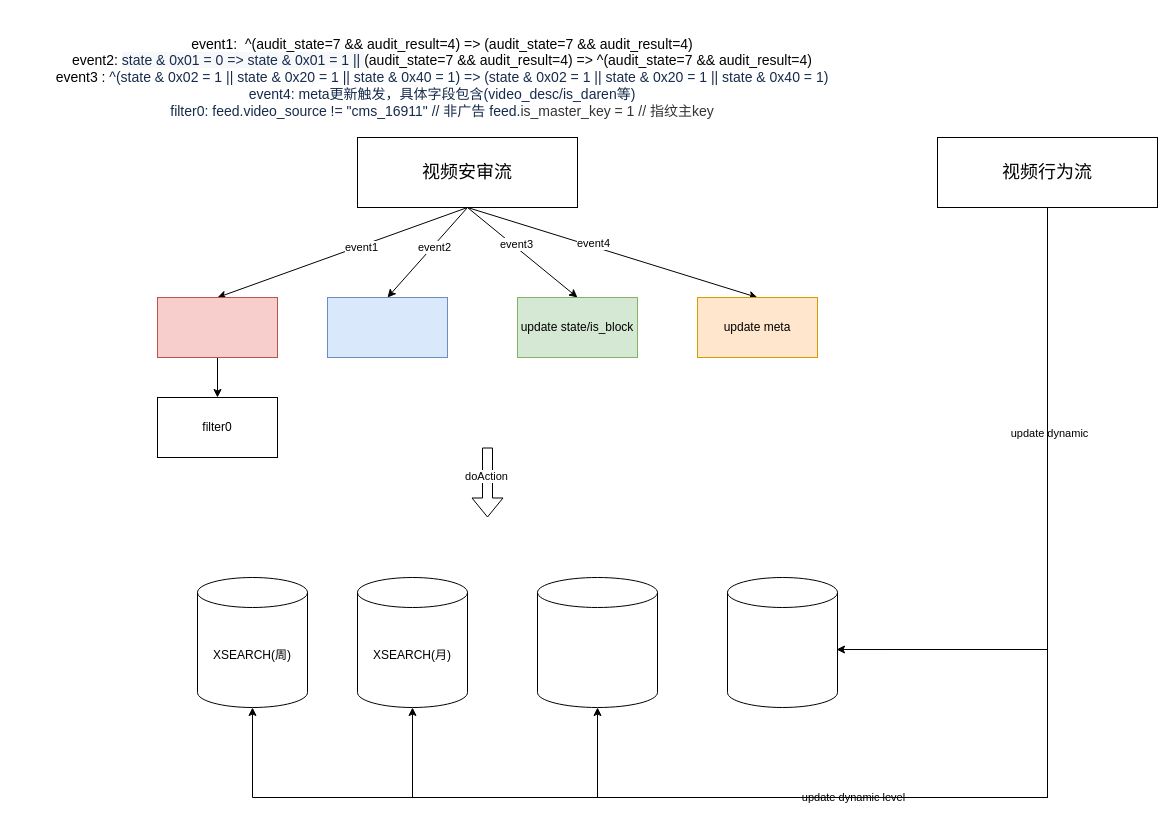
The diagram is 1175 pixels wide and 823 high, and some of its shapes have lost their labels. Here are the shapes that lost their labels. From the top down, the centre of each, then its label:
the point at 217,327: insert
the point at 387,327: delete
the point at 597,642: ES
the point at 782,642: KV
